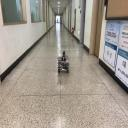cart: (57, 58, 69, 74)
